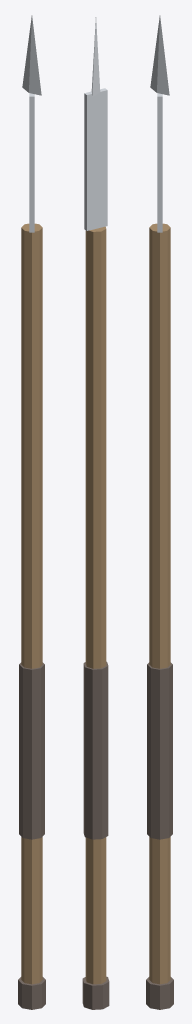
Rendered from glaive.glb.
3 views of the same model, side by side, from view 1: azimuth 90°, elevation 25°; view 2: azimuth 210°, elevation 25°; view 3: azimuth 270°, elevation 25° (orthographic).
Visible parts, largest first — view 1: glaive; view 2: glaive; view 3: glaive.
Boxes of the visible parts, <box> form: glaive: <box>18,15,45,1009</box>; glaive: <box>82,17,109,1009</box>; glaive: <box>146,15,173,1009</box>.
Size of the model in its own units: 0.0357 by 1.4 by 0.0357.
